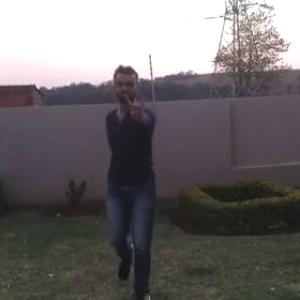takeoff-hand: (118, 90, 155, 129)
